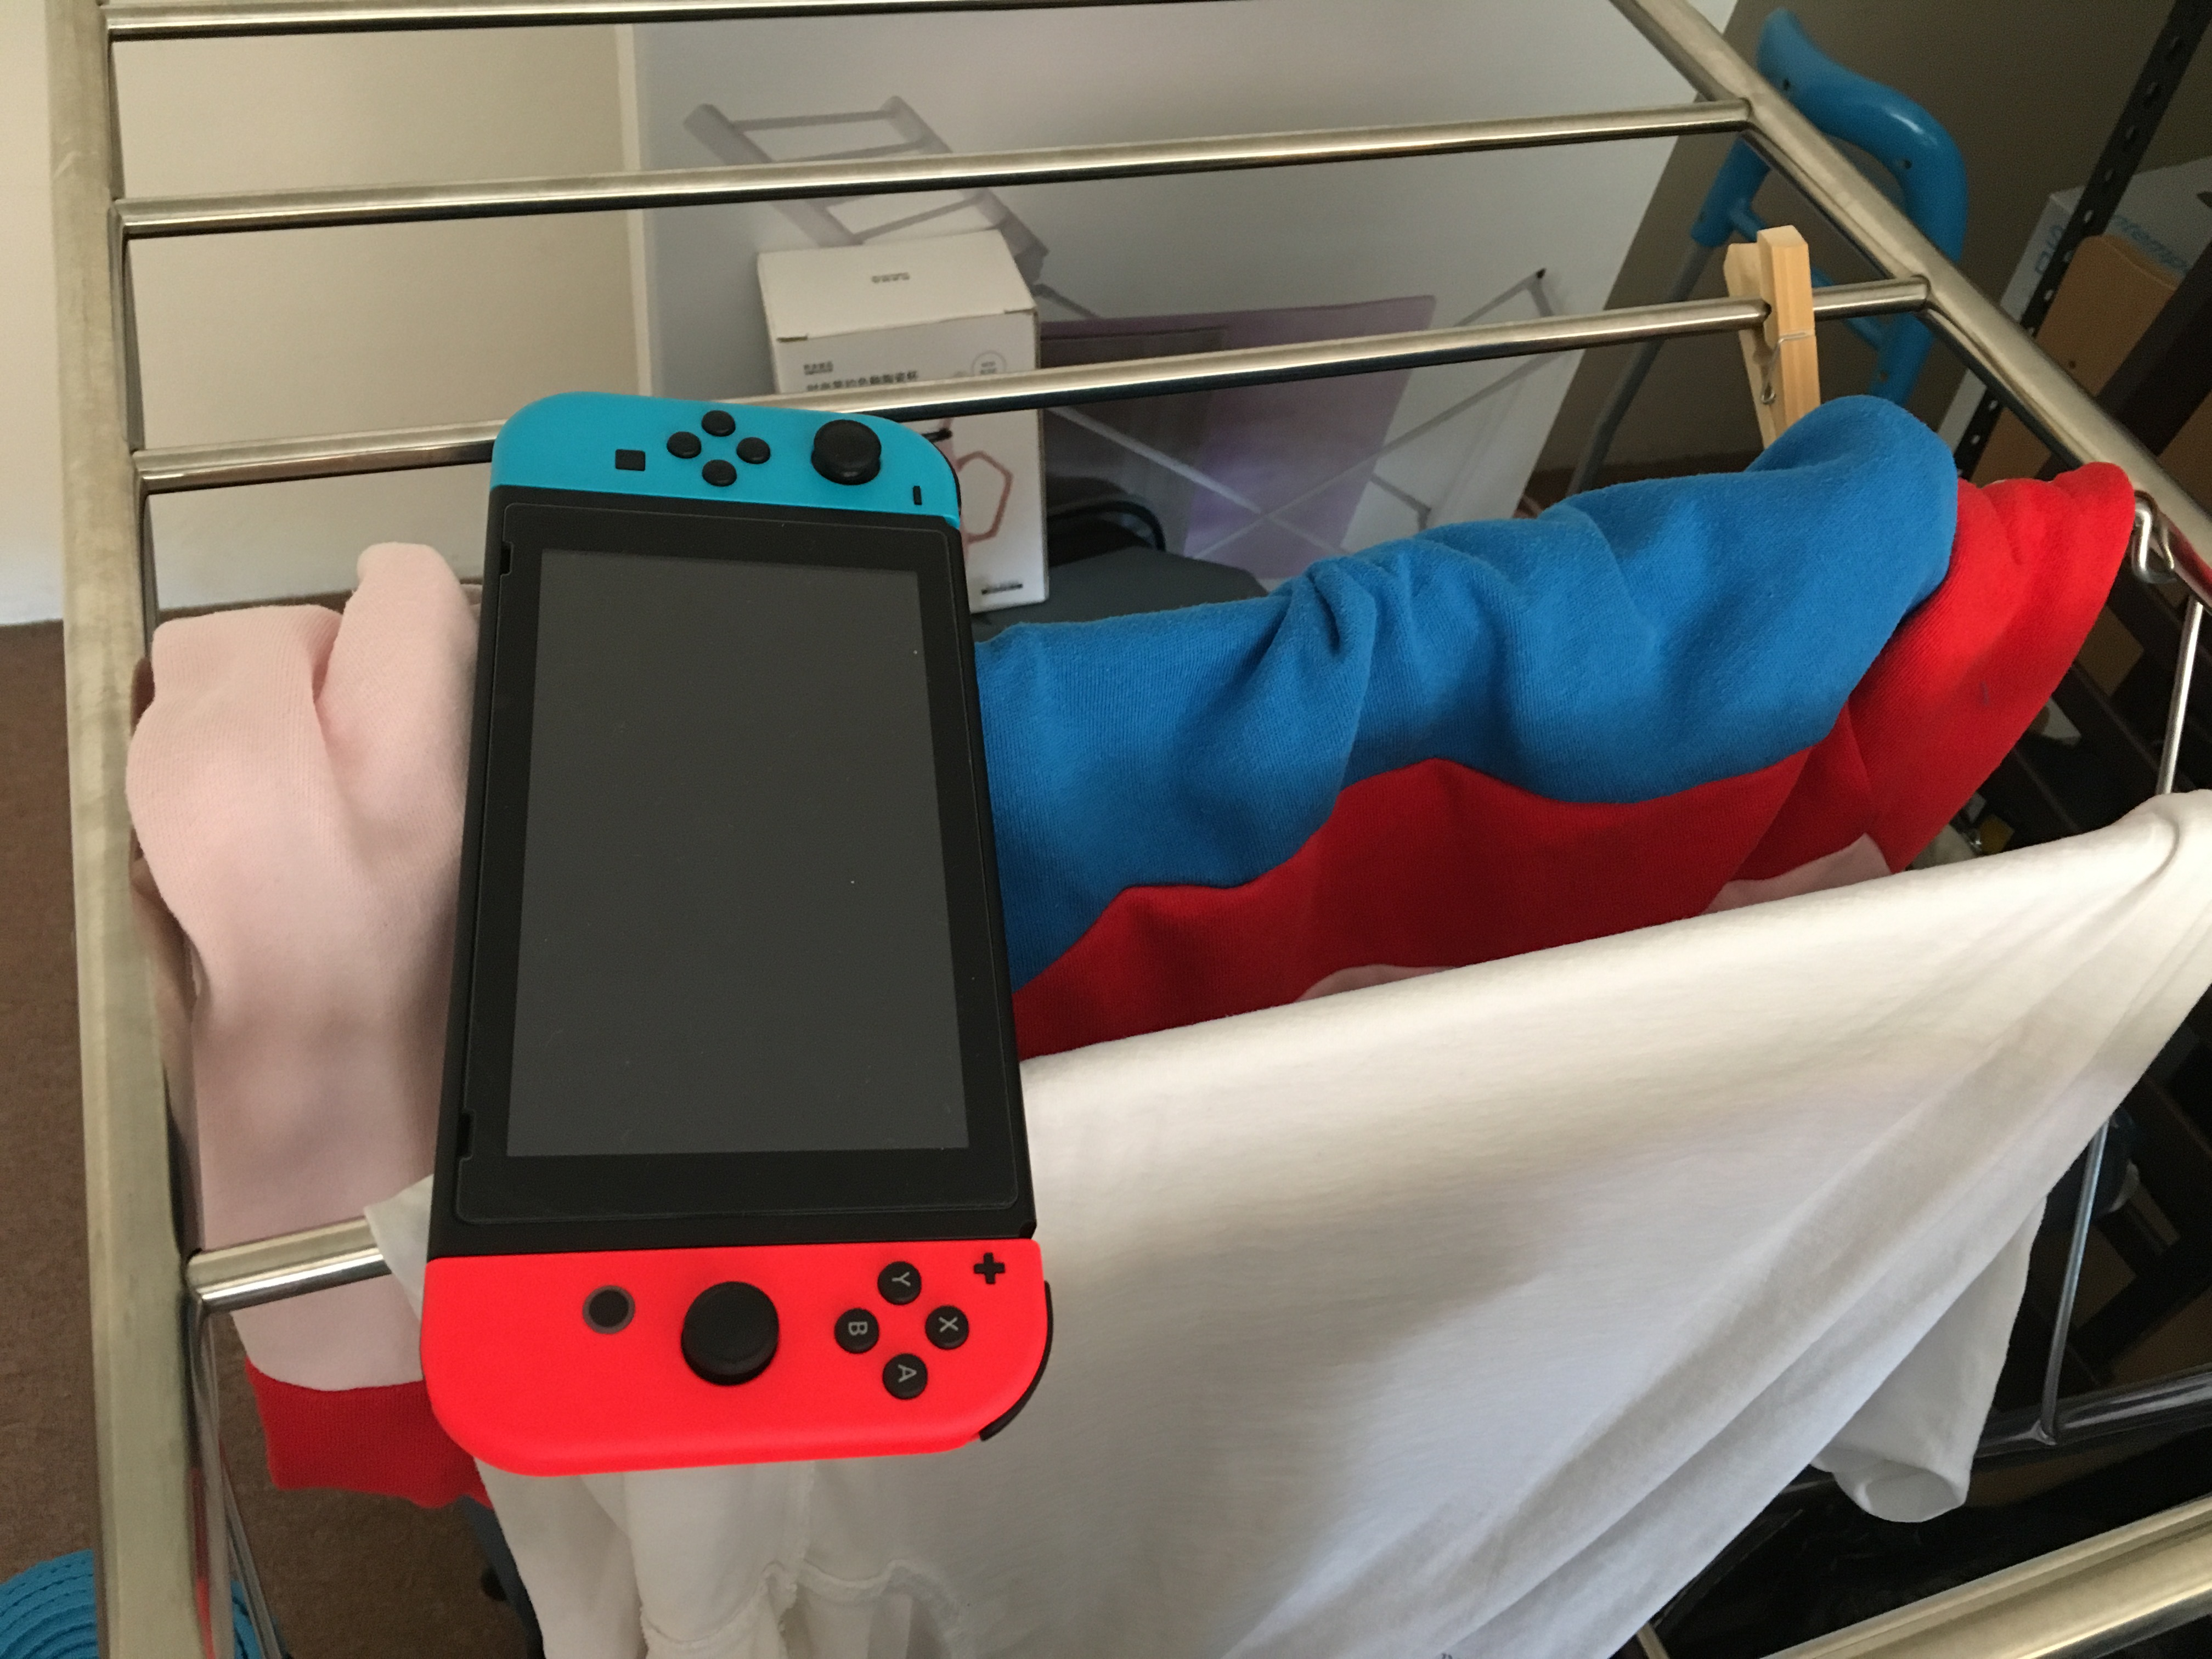NintendoSwitch: (413, 387, 1066, 1488)
